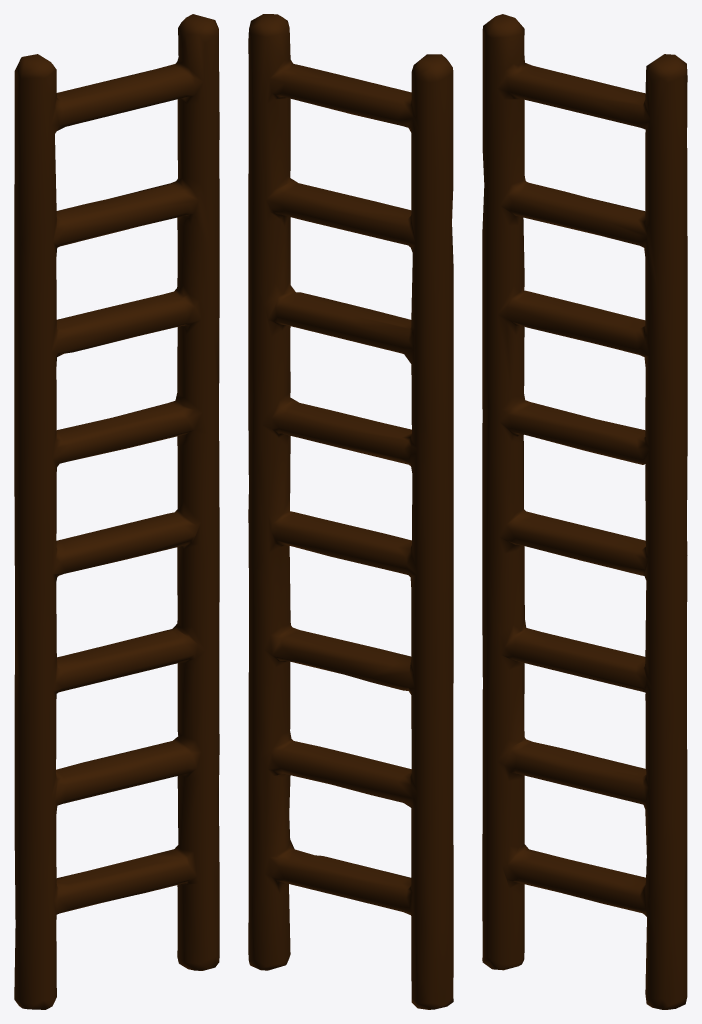
The model's file is gen3d-ladder-lod0.glb.
3 renders of one model, left to right at view 1: azimuth 30°, elevation 25°; view 2: azimuth 150°, elevation 25°; view 3: azimuth 330°, elevation 25°, orthographic.
Visible parts, largest first — view 1: part_0; view 2: part_0; view 3: part_0.
Boxes of the visible parts, x1,y1,x2,y2 form: part_0: (14,14,219,1009); part_0: (248,14,453,1009); part_0: (482,14,687,1009).
Bounding box in the file's own units: 0.2212 × 0.9995 × 0.0436.
